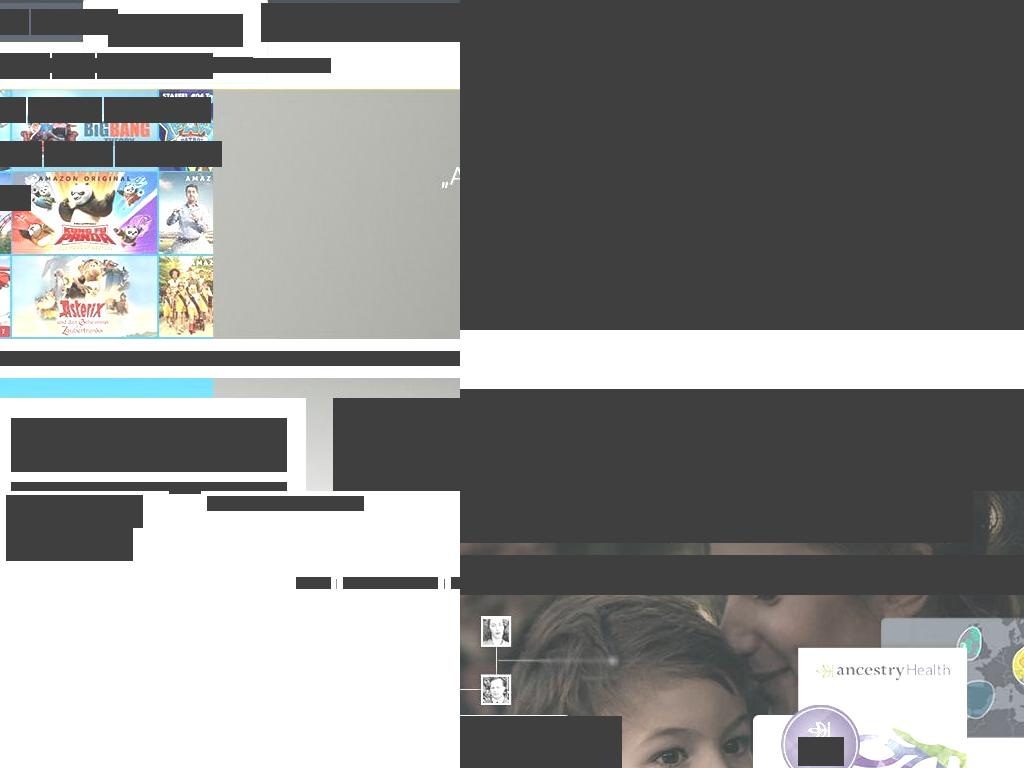button: (484, 389, 722, 491), (722, 389, 960, 491), (585, 223, 765, 274), (261, 3, 460, 42), (108, 14, 243, 47), (460, 174, 525, 225), (97, 53, 213, 79), (104, 97, 211, 123), (115, 141, 222, 167), (31, 9, 118, 35), (28, 97, 102, 123), (44, 141, 113, 167), (0, 53, 50, 79), (52, 53, 95, 79), (0, 141, 42, 167), (0, 185, 31, 211), (0, 9, 29, 35)
field: (460, 14, 525, 65)
heading: (585, 0, 959, 126), (11, 418, 287, 472), (460, 491, 738, 543), (737, 491, 973, 543)
image: (487, 389, 720, 491), (724, 389, 957, 491), (261, 3, 460, 42)
link: (207, 496, 364, 511), (343, 577, 438, 589), (174, 57, 253, 69), (296, 577, 331, 589)
text: (460, 0, 1024, 330), (460, 555, 1024, 595), (585, 146, 959, 192), (0, 351, 460, 366), (0, 58, 331, 73), (6, 495, 143, 528), (6, 528, 133, 561), (109, 15, 242, 45), (6, 517, 128, 539), (798, 737, 844, 766), (6, 495, 98, 506), (97, 57, 172, 69), (910, 170, 946, 192), (22, 550, 81, 561), (98, 495, 124, 506), (903, 171, 910, 183)
